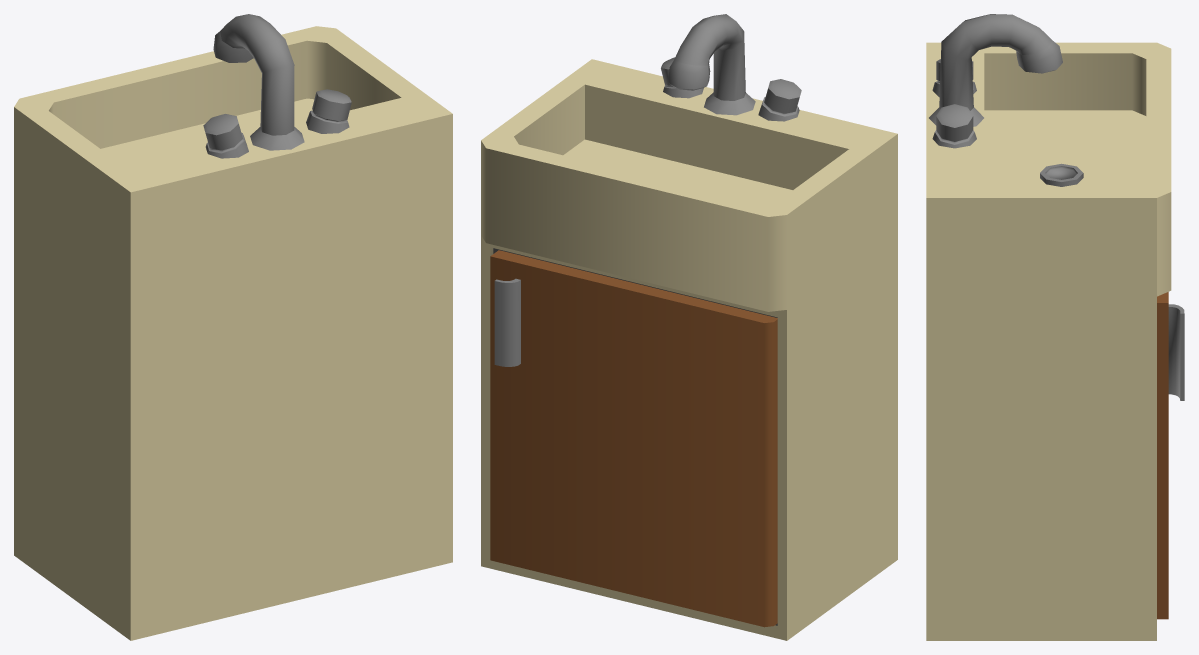
File: SM_Sink_01.fbx
3 views of the same model, side by side, from view 1: azimuth 30°, elevation 25°; view 2: azimuth 150°, elevation 25°; view 3: azimuth 270°, elevation 25° (orthographic). The views are drawn at different scales.
Parts seen in each view (by area): view 1: SM_Sink_02.001; view 2: SM_Sink_02.001; view 3: SM_Sink_02.001.
Boxes of the visible parts, box(x1,y1,x2,y2) form: SM_Sink_02.001: box(14, 14, 452, 640); SM_Sink_02.001: box(481, 14, 897, 640); SM_Sink_02.001: box(926, 14, 1184, 640).
Bounding box in the file's own units: 0.75 × 0.5267 × 1.24.
